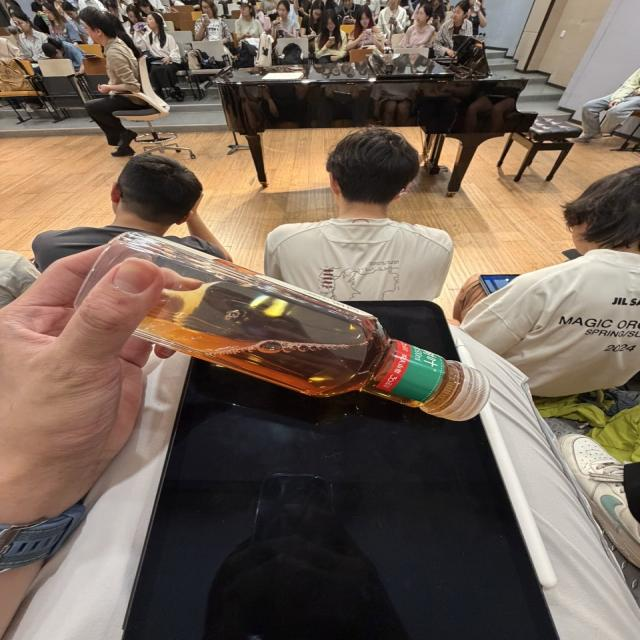medium: (76, 232, 488, 420)
